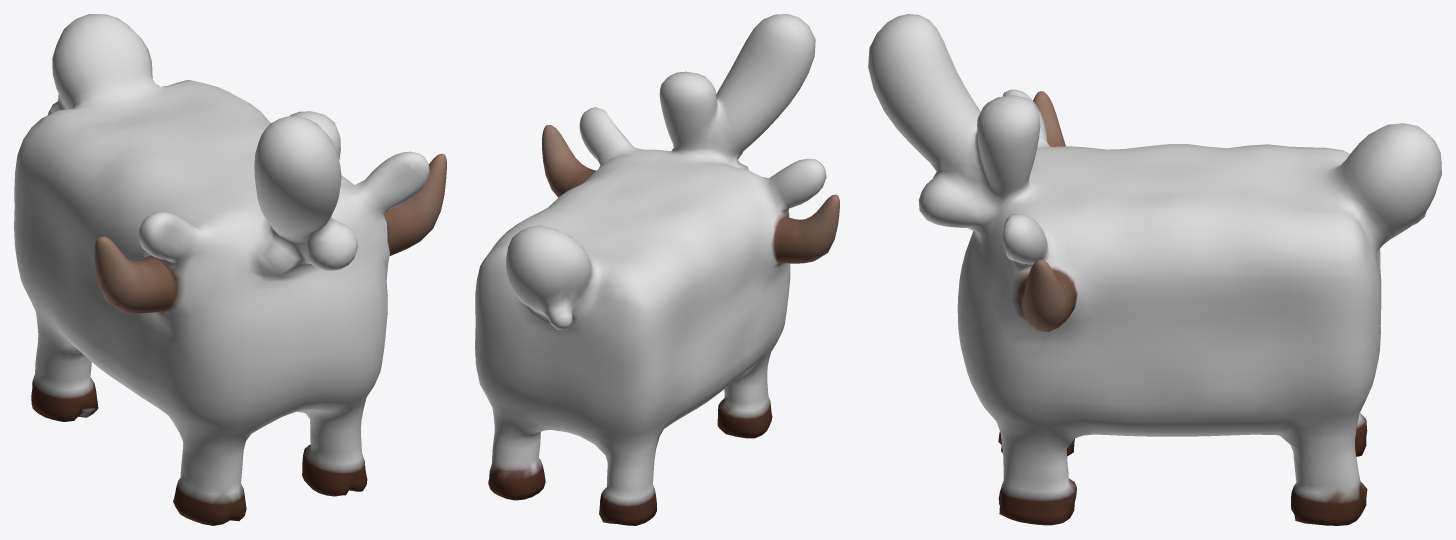
The model's file is OLDsheep1.fbx.
The picture shows the model from 3 angles, left to right: view 1: azimuth 30°, elevation 25°; view 2: azimuth 150°, elevation 25°; view 3: azimuth 270°, elevation 25°; orthographic projection. The views are drawn at different scales.
Parts seen in each view (by area): view 1: corps; view 2: corps; view 3: corps.
Part boxes in pixels (x1,y1,x2,y2): corps: (14,14,446,525); corps: (475,14,839,525); corps: (868,14,1441,525).
Size of the model in its own units: 3.42 by 4.07 by 4.78.
